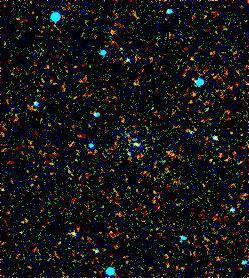star: (122, 128, 152, 158)
